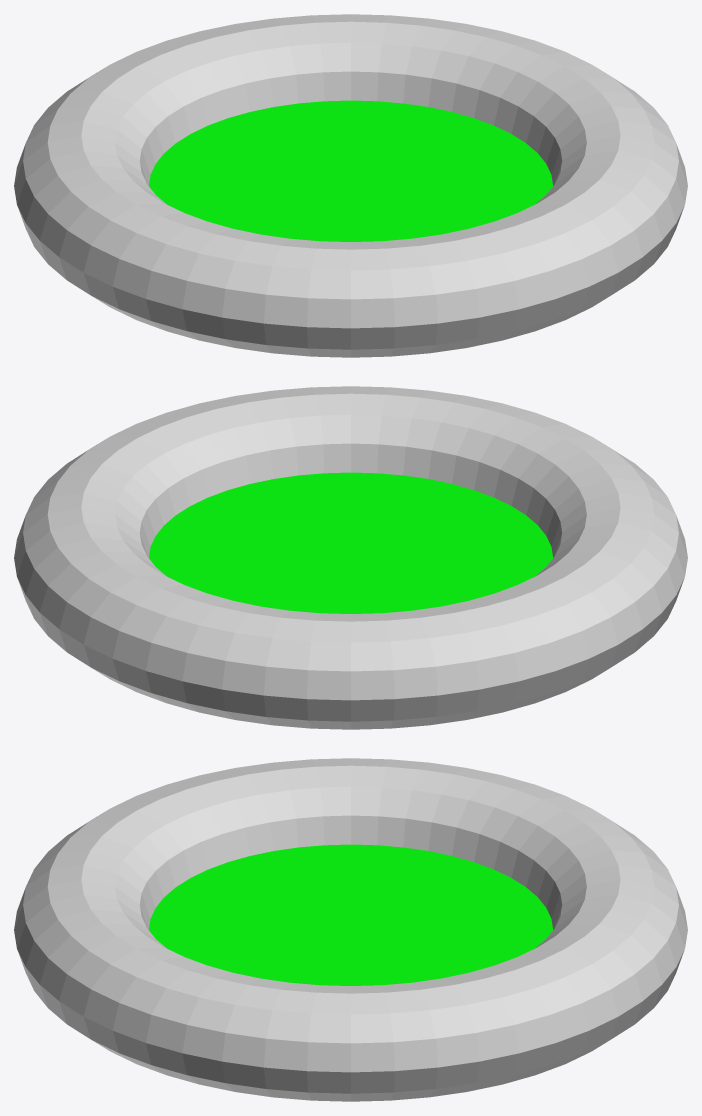
The model's file is GreenGunPlatform.fbx.
3 views of the same model, one above another, from view 1: azimuth 30°, elevation 25°; view 2: azimuth 150°, elevation 25°; view 3: azimuth 270°, elevation 25° (orthographic).
Visible parts, largest first — view 1: Torus, Plane; view 2: Torus, Plane; view 3: Torus, Plane.
Boxes of the visible parts, x1,y1,x2,y2 form: Torus: (14,14,687,357); Plane: (149,100,552,241); Torus: (14,386,687,729); Plane: (149,472,552,613); Torus: (14,758,687,1101); Plane: (149,844,552,985).
Size of the model in its own units: 250 by 41.18 by 250.
